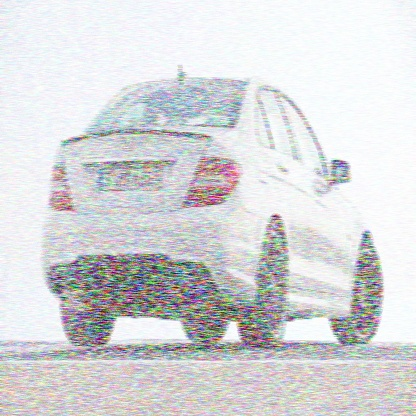Vehicle: (41, 57, 385, 352)
